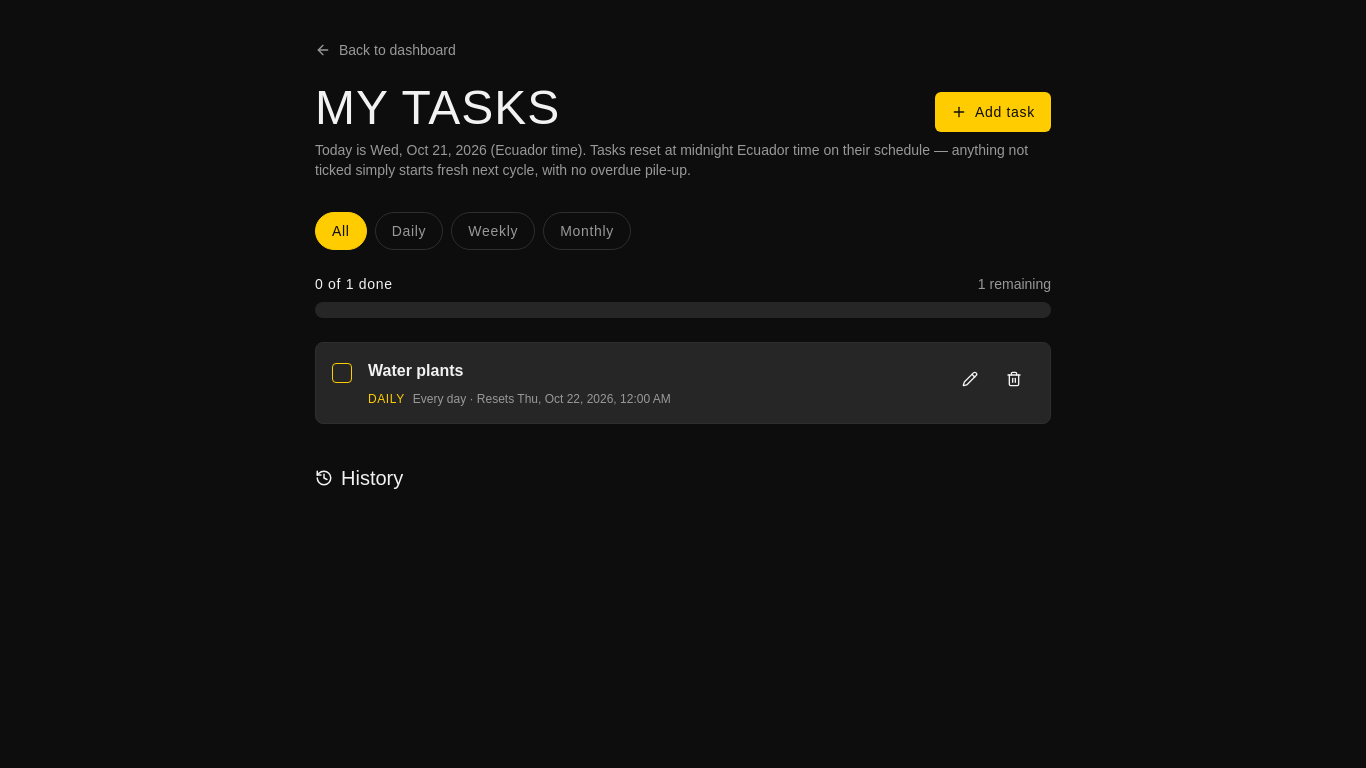
Test: owner dashboard › adds, completes, undoes, edits and archives a task
This screenshot has width=1366, height=768.
Earlier steps of the test are not shown.
Expected: the text "Water plants" is shown, top-left (368, 362), bottom-right (463, 379)
Click the checkbox at [342, 373], box top-left (332, 363), bottom-right (352, 383)
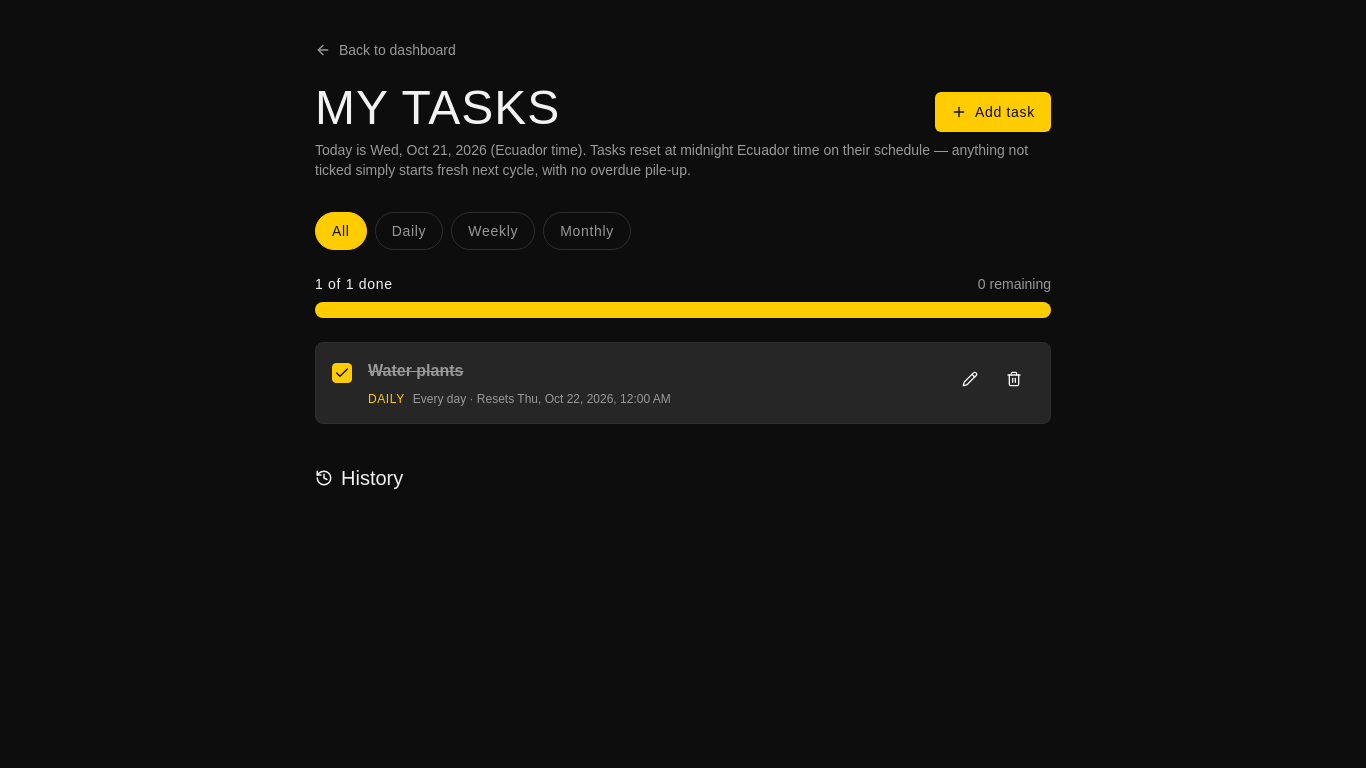
Expected: the checkbox has attribute data-state="checked"
Click the checkbox at [342, 373], box top-left (332, 363), bottom-right (352, 383)
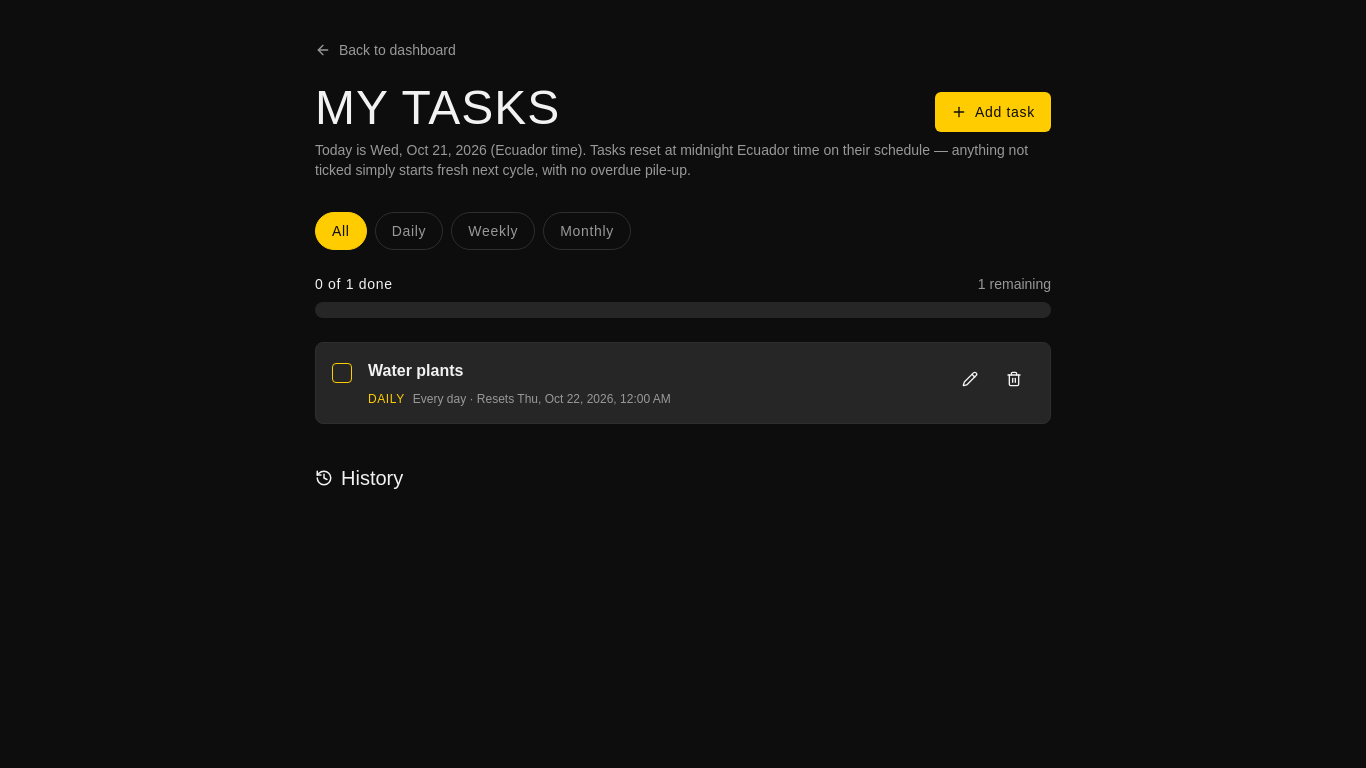
Expected: the checkbox has attribute data-state="unchecked", top-left (332, 363), bottom-right (352, 383)
Click the button named "Edit Water plants" at [970, 379], box top-left (950, 359), bottom-right (990, 399)
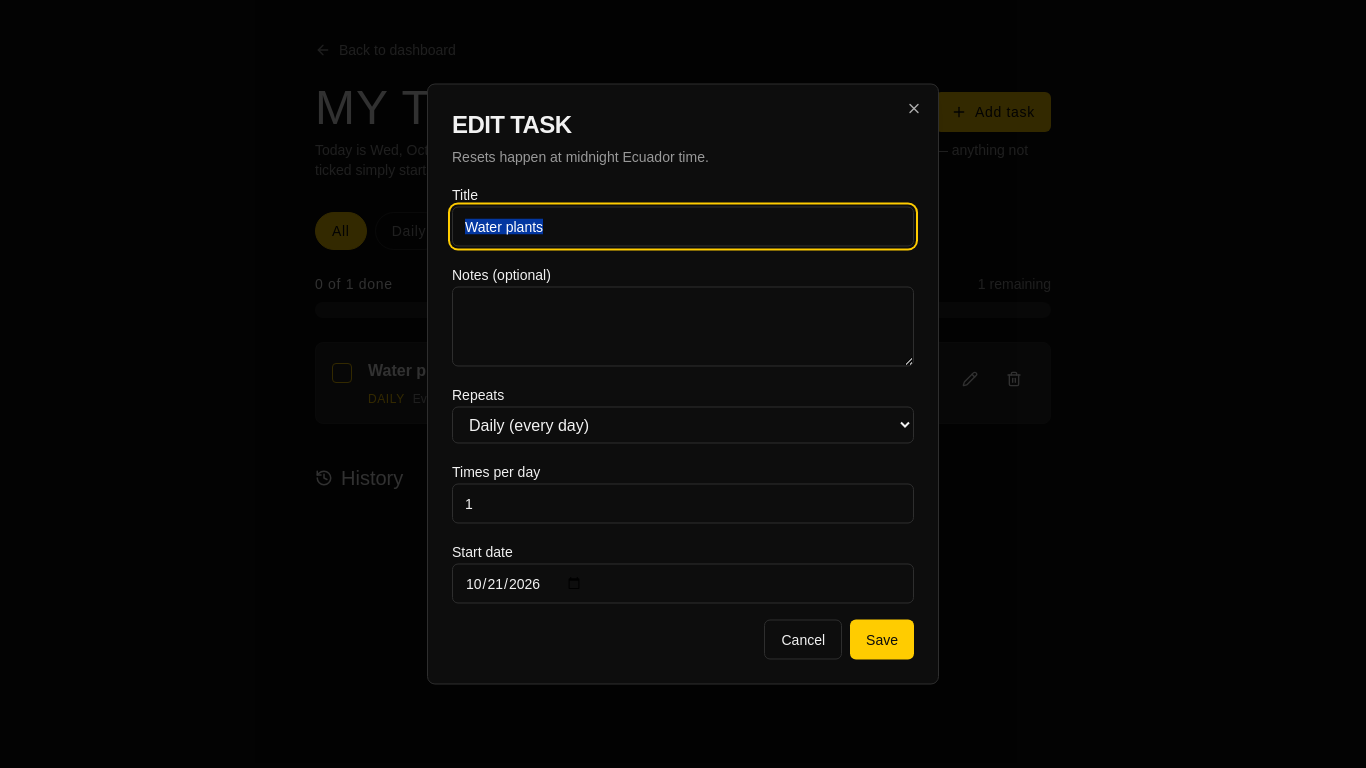
Replace the text in the field labelled "Title" with "Water garden" at [683, 226], box top-left (452, 206), bottom-right (914, 246)
Click the button "Save" at [882, 640], box top-left (850, 620), bottom-right (914, 660)
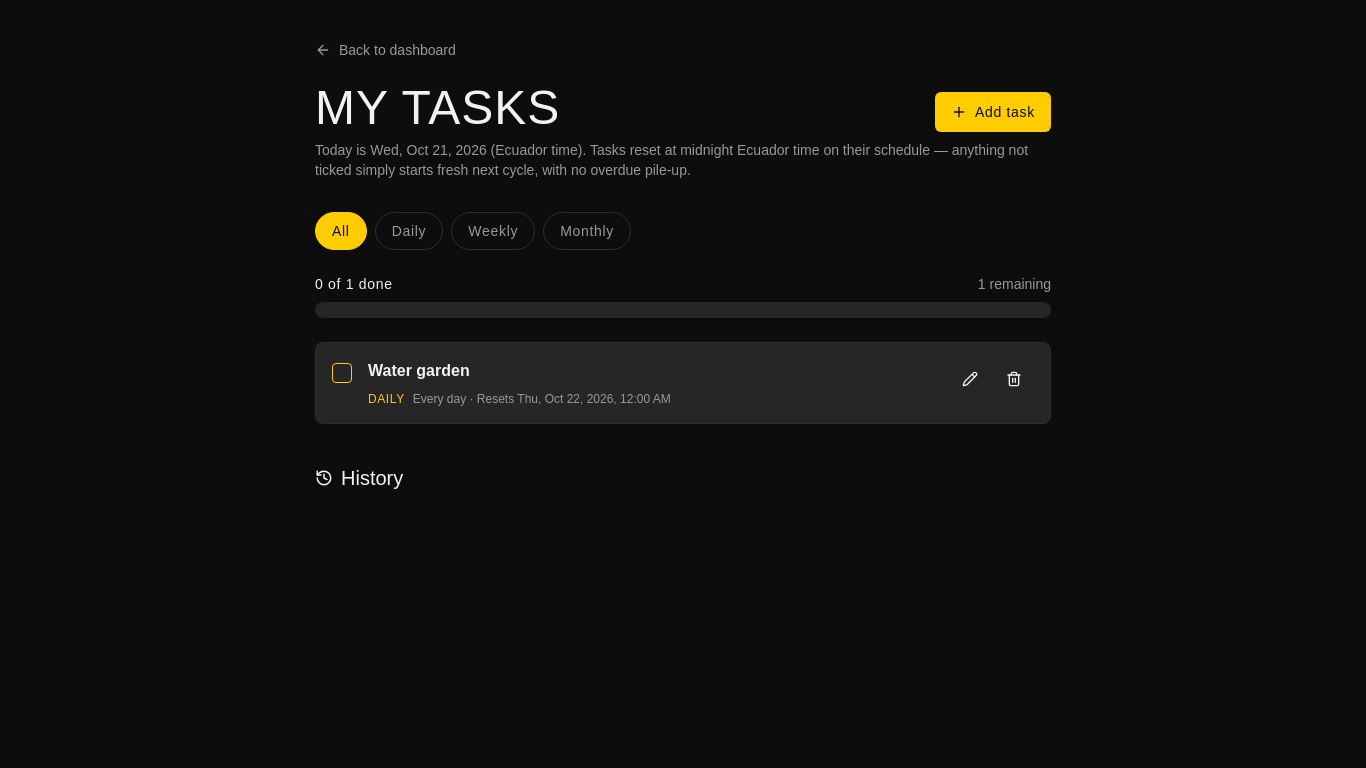
Expected: the text "Water garden" is shown, top-left (368, 362), bottom-right (470, 379)
Click the button named "Remove Water garden" at [1014, 379], box top-left (994, 359), bottom-right (1034, 399)
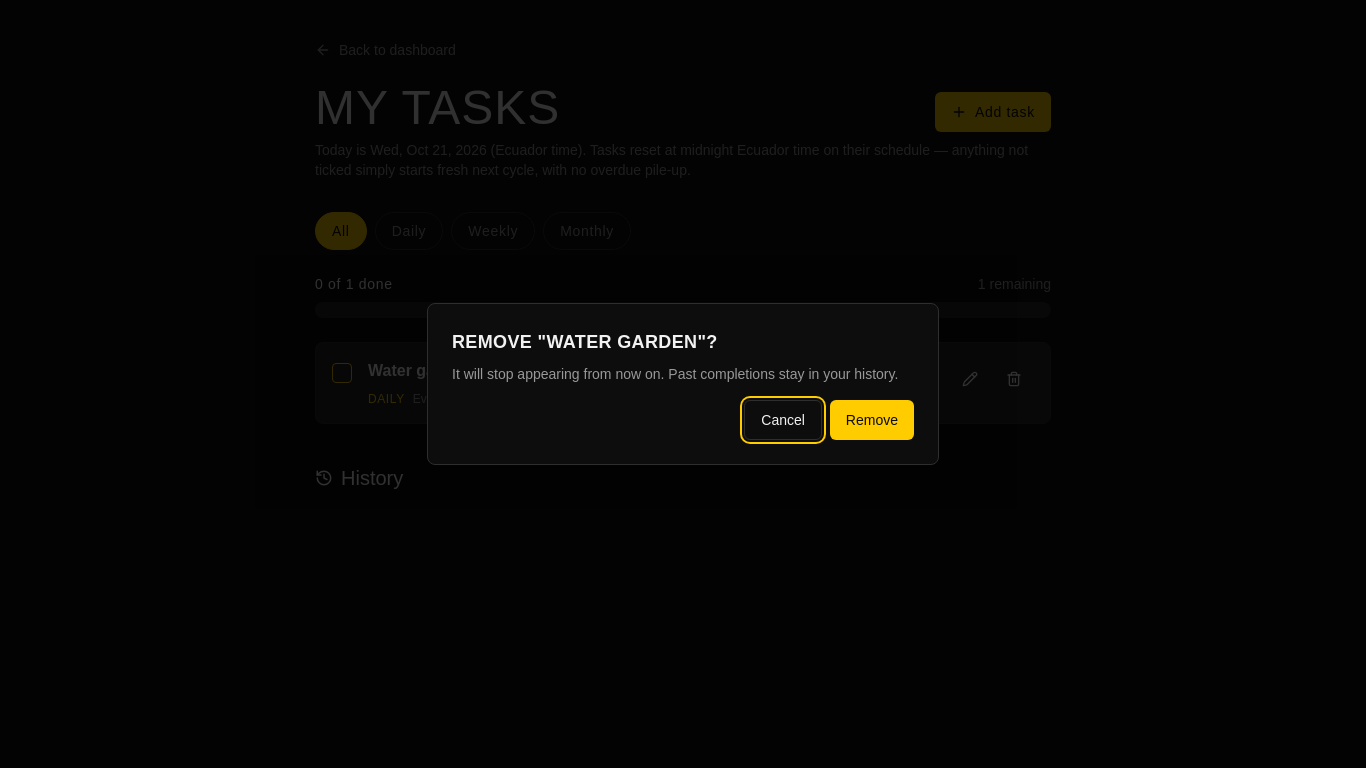
Click the button "Remove" at [872, 420], box top-left (830, 400), bottom-right (914, 440)
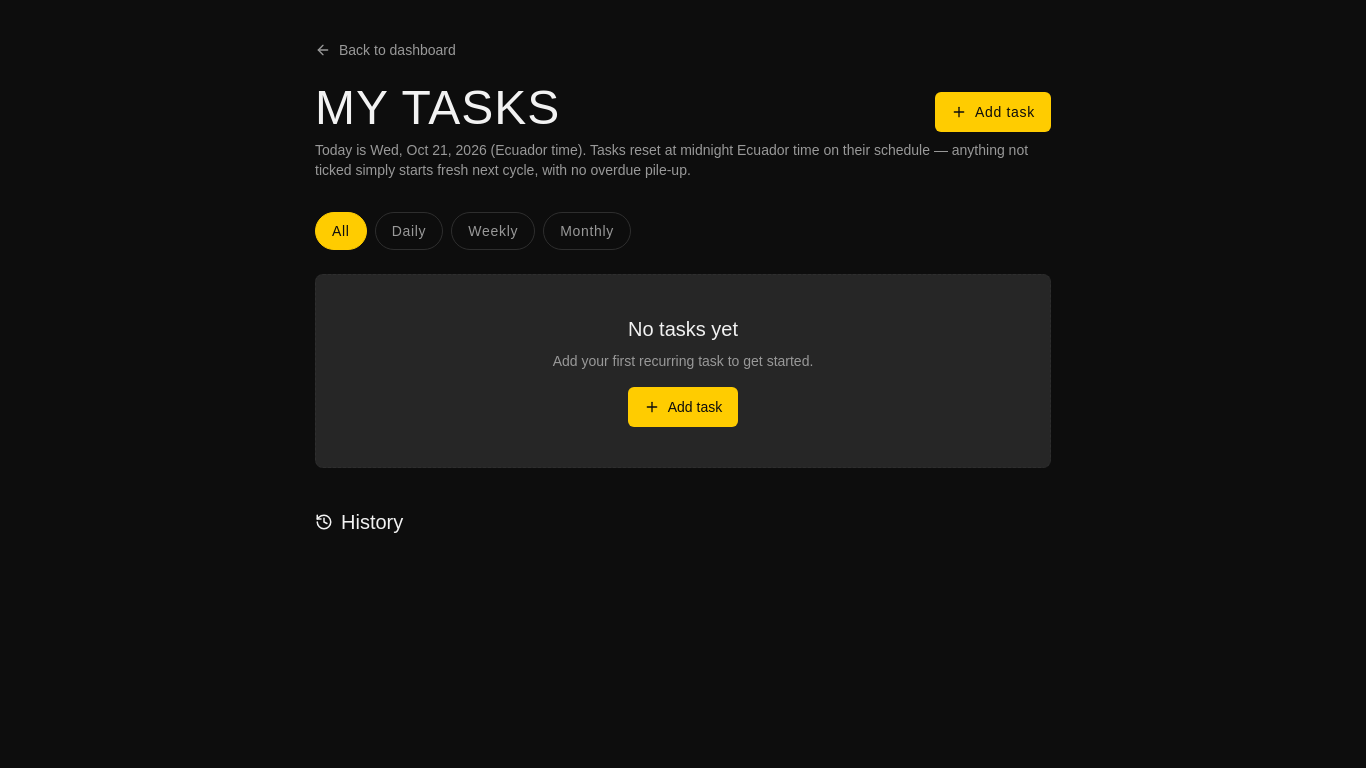
Expected: the text "Water garden" is gone
